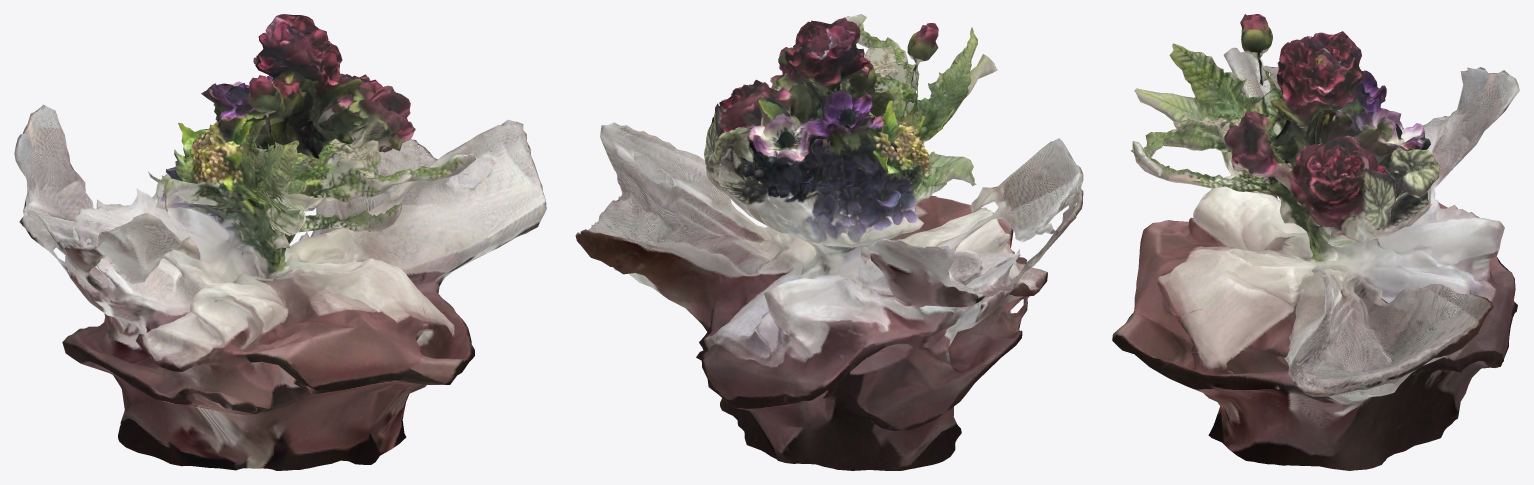
The model's file is ShapedFlower.glb.
The picture shows the model from 3 angles, left to right: view 1: azimuth 30°, elevation 25°; view 2: azimuth 150°, elevation 25°; view 3: azimuth 270°, elevation 25°; orthographic projection. The views are drawn at different scales.
Parts seen in each view (by area): view 1: 7375e194-9888-4bde-9063-f7c1618ecb92; view 2: 7375e194-9888-4bde-9063-f7c1618ecb92; view 3: 7375e194-9888-4bde-9063-f7c1618ecb92.
Part boxes in pixels (x1,y1,x2,y2): 7375e194-9888-4bde-9063-f7c1618ecb92: (14,14,546,470); 7375e194-9888-4bde-9063-f7c1618ecb92: (575,14,1083,470); 7375e194-9888-4bde-9063-f7c1618ecb92: (1112,14,1519,470).
Bounding box in the file's own units: 0.6821 × 0.5492 × 0.5161.
Materials: 1 (1 with a texture image).
